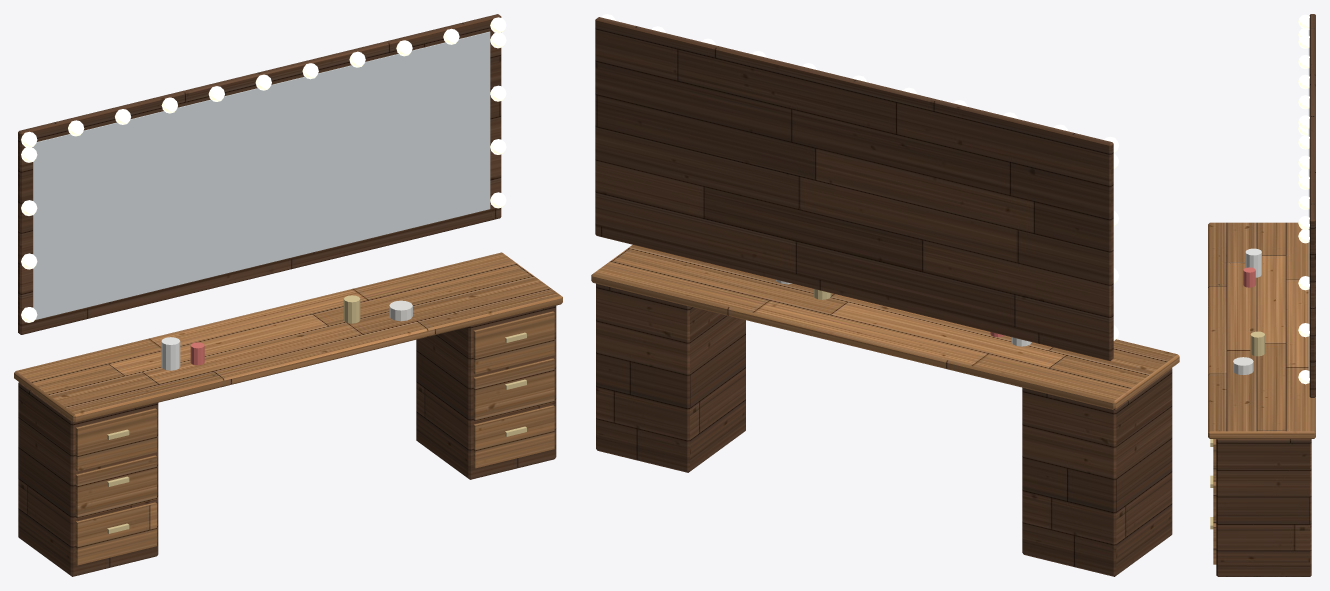
Rendered from makeup_counter.glb.
The picture shows the model from 3 angles, left to right: view 1: azimuth 30°, elevation 25°; view 2: azimuth 150°, elevation 25°; view 3: azimuth 270°, elevation 25°; orthographic projection. The views are drawn at different scales.
Parts seen in each view (by area): view 1: makeup_counter_mirror, makeup_counter_wood, makeup_counter_dkwood, makeup_counter_lamp_glass, makeup_counter_brass; view 2: makeup_counter_dkwood, makeup_counter_wood, makeup_counter_lamp_glass; view 3: makeup_counter_wood, makeup_counter_dkwood, makeup_counter_lamp_glass, makeup_counter_brass, makeup_counter_porcelain, makeup_counter_mirror, makeup_counter_paper, makeup_counter_flag_r.
Part boxes in pixels (x1,y1,x2,y2): makeup_counter_mirror: [33, 31, 490, 319]; makeup_counter_wood: [14, 252, 562, 565]; makeup_counter_dkwood: [18, 14, 556, 576]; makeup_counter_lamp_glass: [21, 17, 506, 322]; makeup_counter_brass: [107, 295, 526, 533]; makeup_counter_dkwood: [595, 17, 1172, 576]; makeup_counter_wood: [591, 245, 1179, 409]; makeup_counter_lamp_glass: [601, 14, 1119, 340]; makeup_counter_wood: [1208, 222, 1315, 564]; makeup_counter_dkwood: [1216, 14, 1315, 576]; makeup_counter_lamp_glass: [1298, 14, 1309, 384]; makeup_counter_brass: [1210, 331, 1264, 529]; makeup_counter_porcelain: [1245, 248, 1261, 277]; makeup_counter_mirror: [1308, 30, 1309, 370]; makeup_counter_paper: [1233, 357, 1253, 375]; makeup_counter_flag_r: [1243, 267, 1255, 287].
Size of the model in its own units: 2.4 by 1.9 by 0.52.
8 materials, 2 textured.
